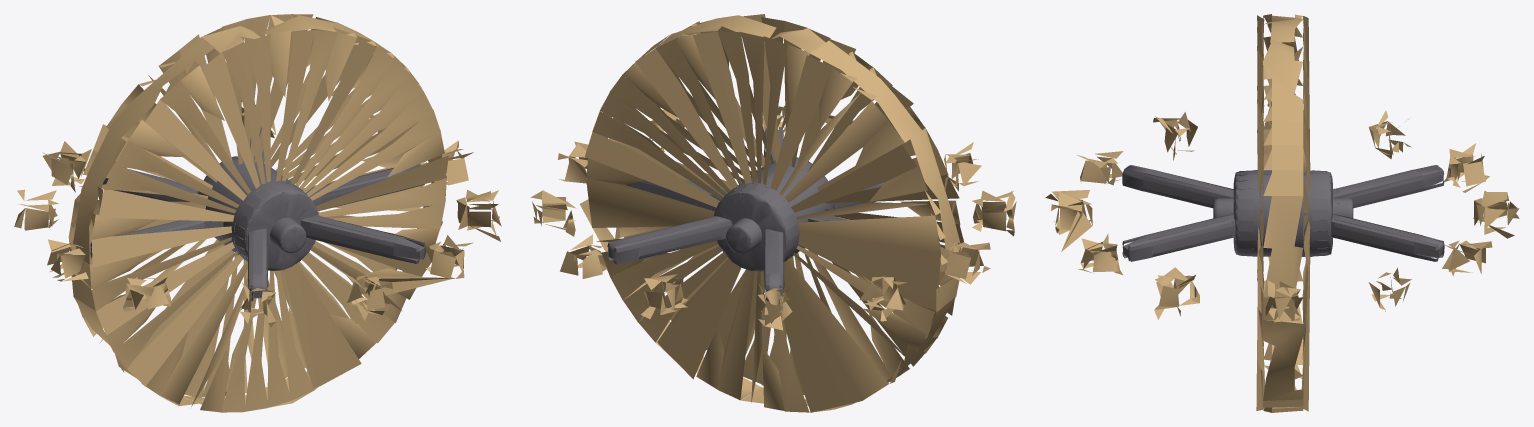
The model's file is clockwork_gear.glb.
3 renders of one model, left to right at view 1: azimuth 30°, elevation 25°; view 2: azimuth 150°, elevation 25°; view 3: azimuth 270°, elevation 25°, orthographic. The views are drawn at different scales.
Parts seen in each view (by area): view 1: gear_disc, spoke_0, gear_hub, gear_axle; view 2: gear_disc, spoke_0, gear_hub, gear_axle; view 3: gear_disc, spoke_0, gear_hub, gear_axle.
Part boxes in pixels (x1,y1,x2,y2): gear_disc: (14,14,501,412); spoke_0: (90,127,425,301); gear_hub: (197,156,318,270); gear_axle: (245,192,306,253); gear_disc: (530,14,1016,412); spoke_0: (607,127,941,301); gear_hub: (713,157,835,271); gear_axle: (726,197,782,253); gear_disc: (1045,14,1519,412); spoke_0: (1122,165,1444,297); gear_hub: (1233,170,1332,256); gear_axle: (1213,198,1353,218).
Bounding box in the file's own units: 2.32 × 1.99 × 2.37.
